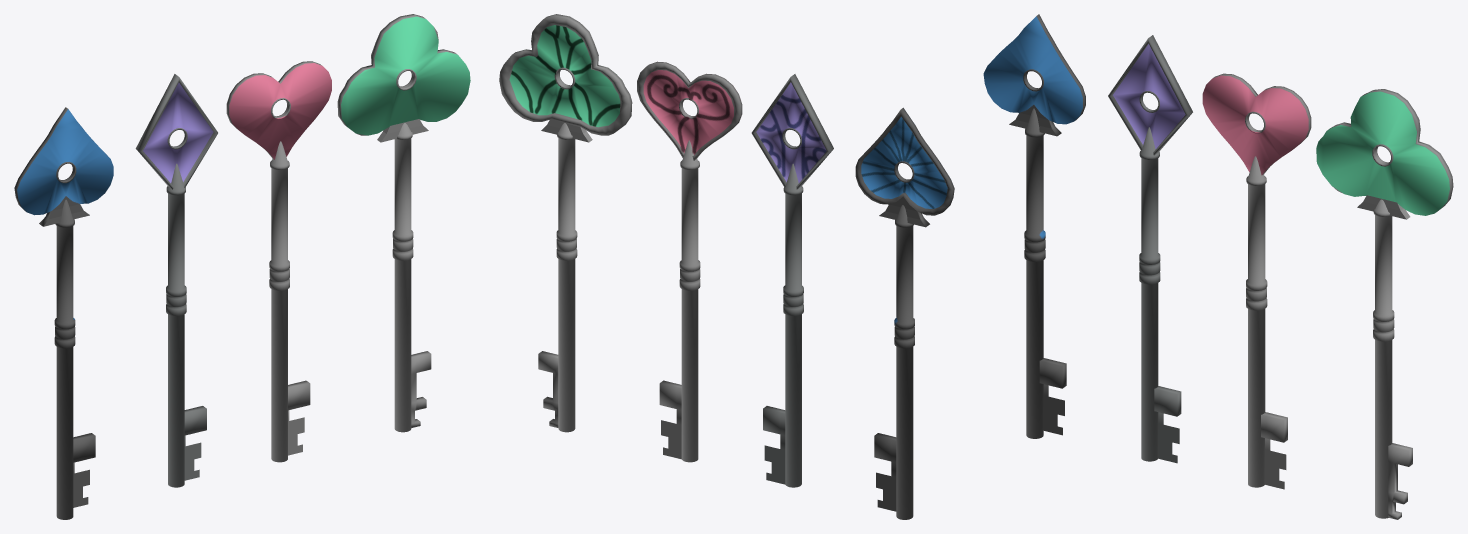
Rendered from resident_evil_keys.glb.
3 views of the same model, side by side, from view 1: azimuth 30°, elevation 25°; view 2: azimuth 150°, elevation 25°; view 3: azimuth 330°, elevation 25° (orthographic). The views are drawn at different scales.
Parts seen in each view (by area): view 1: Green_key, Blue_key, Red_key, Purple_key; view 2: Green_key, Blue_key, Red_key, Purple_key; view 3: Green_key, Blue_key, Red_key, Purple_key.
Boxes of the visible parts, <box> form: Green_key: <box>337,14,470,432</box>; Blue_key: <box>14,107,113,519</box>; Red_key: <box>226,61,331,462</box>; Purple_key: <box>135,74,217,487</box>; Green_key: <box>499,14,632,432</box>; Blue_key: <box>855,107,954,519</box>; Red_key: <box>637,61,742,462</box>; Purple_key: <box>751,74,833,487</box>; Green_key: <box>1316,89,1453,519</box>; Blue_key: <box>983,14,1085,438</box>; Red_key: <box>1202,73,1311,489</box>; Purple_key: <box>1108,35,1192,463</box>.
Bounding box in the file's own units: 1.63 × 1.43 × 0.0643.
4 materials, 4 textured.
